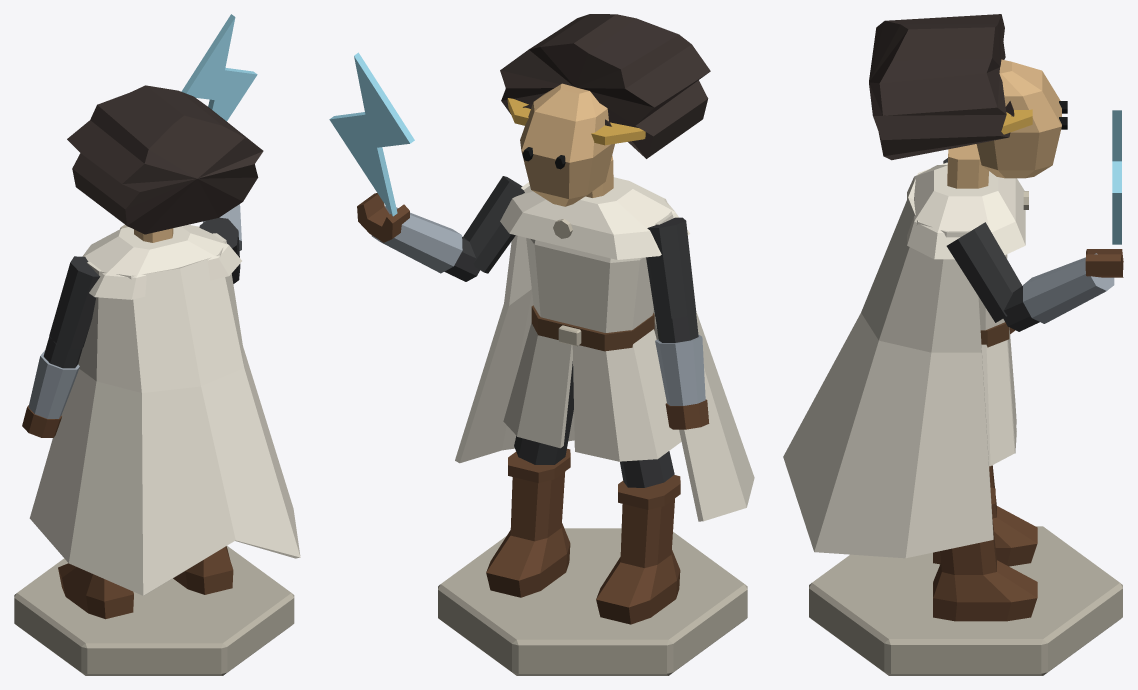
Rendered from human_stormcaller_t4.glb.
The picture shows the model from 3 angles, left to right: view 1: azimuth 30°, elevation 25°; view 2: azimuth 150°, elevation 25°; view 3: azimuth 270°, elevation 25°; orthographic projection. The views are drawn at different scales.
Parts seen in each view (by area): view 1: Storm_Long_Two_Point_Cape, Foundation_Hexagonal_Stone, storm_one_connected_swept_back_hair, Continuous_Shoulder_Mantle, storm_one_simple_zigzag_lightning, left_upper_sleeve, Boot_-1, left_bracer, Boot_1, right_upper_sleeve, left_lower_sleeve, left_glove_mitten; view 2: Foundation_Hexagonal_Stone, storm_one_connected_swept_back_hair, Storm_Long_Two_Point_Cape, Continuous_Tunic_Bodice, Continuous_Shoulder_Mantle, Angular_Face, Continuous_Split_Tunic_Skirt, Boot_1, Boot_-1, storm_one_simple_zigzag_lightning, Split_Tunic_Front_1, Split_Tunic_Front_-1 (+14 smaller); view 3: Storm_Long_Two_Point_Cape, Foundation_Hexagonal_Stone, storm_one_connected_swept_back_hair, Continuous_Shoulder_Mantle, Boot_1, Angular_Face, right_upper_sleeve, right_bracer, Continuous_Split_Tunic_Skirt, Boot_-1, Small_Neck, storm_one_simple_zigzag_lightning (+4 smaller).
Part boxes in pixels (x1=…): Storm_Long_Two_Point_Cape: x1=29, y1=233, x2=300, y2=595; Foundation_Hexagonal_Stone: x1=14, y1=546, x2=294, y2=675; storm_one_connected_swept_back_hair: x1=67, y1=85, x2=263, y2=234; Continuous_Shoulder_Mantle: x1=82, y1=224, x2=241, y2=299; storm_one_simple_zigzag_lightning: x1=181, y1=14, x2=257, y2=121; left_upper_sleeve: x1=49, y1=256, x2=100, y2=349; Boot_-1: x1=58, y1=563, x2=133, y2=619; left_bracer: x1=28, y1=350, x2=79, y2=418; Boot_1: x1=173, y1=546, x2=233, y2=594; right_upper_sleeve: x1=199, y1=217, x2=240, y2=283; left_lower_sleeve: x1=43, y1=337, x2=82, y2=368; left_glove_mitten: x1=22, y1=405, x2=61, y2=437; Foundation_Hexagonal_Stone: x1=438, y1=528, x2=747, y2=675; storm_one_connected_swept_back_hair: x1=500, y1=14, x2=710, y2=158; Storm_Long_Two_Point_Cape: x1=455, y1=182, x2=754, y2=521; Continuous_Tunic_Bodice: x1=526, y1=238, x2=653, y2=332; Continuous_Shoulder_Mantle: x1=500, y1=177, x2=689, y2=259; Angular_Face: x1=520, y1=83, x2=614, y2=206; Continuous_Split_Tunic_Skirt: x1=503, y1=323, x2=681, y2=461; Boot_1: x1=486, y1=471, x2=570, y2=597; Boot_-1: x1=596, y1=498, x2=680, y2=624; storm_one_simple_zigzag_lightning: x1=329, y1=52, x2=414, y2=216; Split_Tunic_Front_1: x1=517, y1=335, x2=572, y2=448; Split_Tunic_Front_-1: x1=572, y1=345, x2=620, y2=461; Storm_Long_Two_Point_Cape: x1=783, y1=162, x2=993, y2=558; Foundation_Hexagonal_Stone: x1=809, y1=526, x2=1122, y2=675; storm_one_connected_swept_back_hair: x1=869, y1=14, x2=1014, y2=160; Continuous_Shoulder_Mantle: x1=907, y1=165, x2=1025, y2=259; Boot_1: x1=933, y1=517, x2=1037, y2=621; Angular_Face: x1=976, y1=59, x2=1061, y2=178; right_upper_sleeve: x1=946, y1=222, x2=1022, y2=322; right_bracer: x1=1023, y1=253, x2=1114, y2=323; Continuous_Split_Tunic_Skirt: x1=981, y1=340, x2=1014, y2=466; Boot_-1: x1=933, y1=465, x2=1037, y2=566; Small_Neck: x1=947, y1=144, x2=988, y2=188; storm_one_simple_zigzag_lightning: x1=1112, y1=110, x2=1121, y2=244.
Size of the model in its own units: 1.09 by 1.94 by 1.01.
